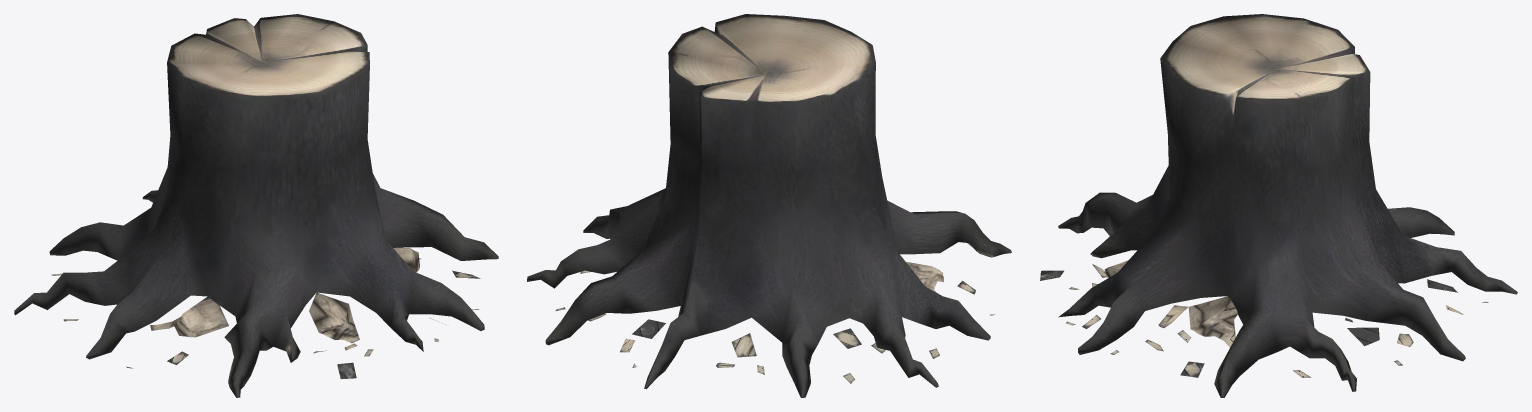
Rendered from prop_node_stump.glb.
The picture shows the model from 3 angles, left to right: view 1: azimuth 30°, elevation 25°; view 2: azimuth 150°, elevation 25°; view 3: azimuth 270°, elevation 25°; orthographic projection.
Visible parts, largest first — view 1: tripo_node_f73913ae-4292-49f3-a819-a58cf6eec1c2; view 2: tripo_node_f73913ae-4292-49f3-a819-a58cf6eec1c2; view 3: tripo_node_f73913ae-4292-49f3-a819-a58cf6eec1c2.
Boxes of the visible parts, <box> form: tripo_node_f73913ae-4292-49f3-a819-a58cf6eec1c2: <box>14,14,498,397</box>; tripo_node_f73913ae-4292-49f3-a819-a58cf6eec1c2: <box>527,14,1011,397</box>; tripo_node_f73913ae-4292-49f3-a819-a58cf6eec1c2: <box>1040,14,1517,397</box>.
Size of the model in its own units: 0.998 by 0.5566 by 0.9864.
1 material, 1 textured.
